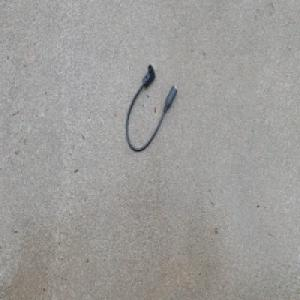Wire: (124, 63, 177, 152)
